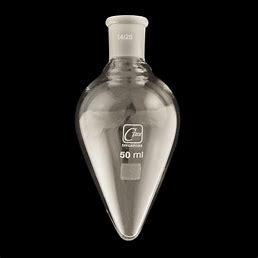Pear shaped flask: (78, 22, 180, 240)
